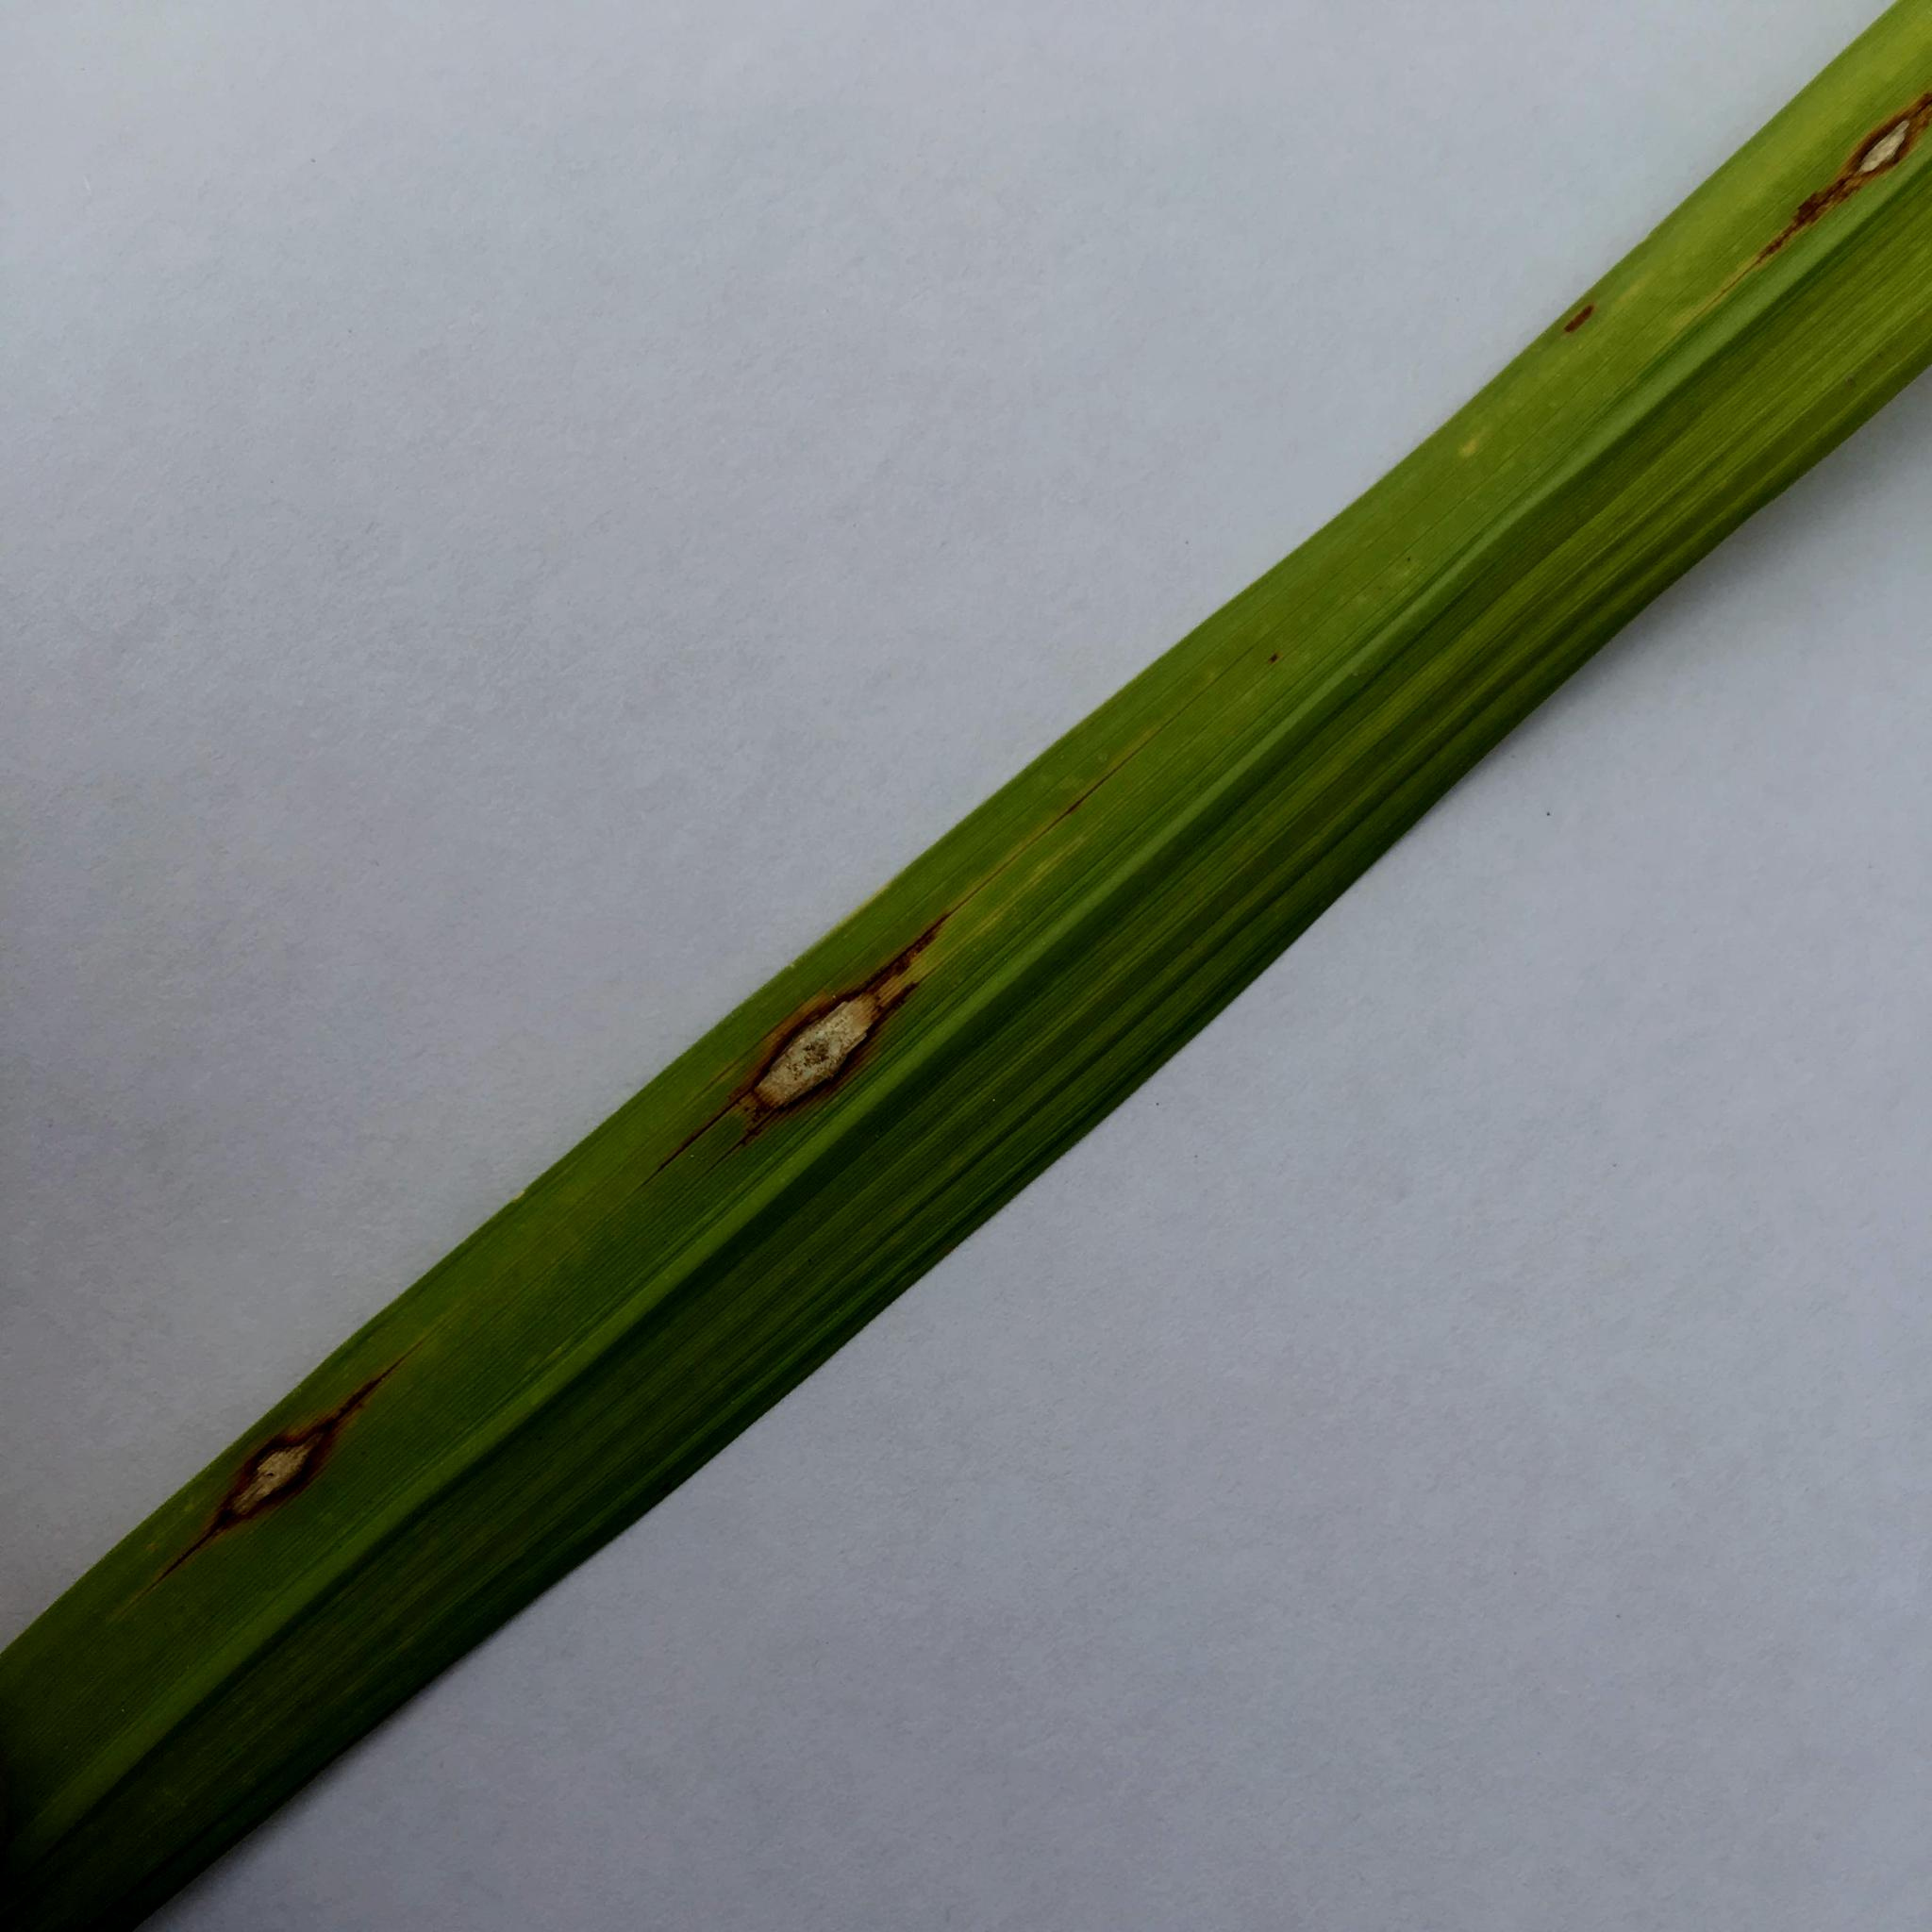1 RiceBlast: (644, 778, 962, 1178), (122, 1288, 449, 1614), (1743, 37, 1932, 276)
